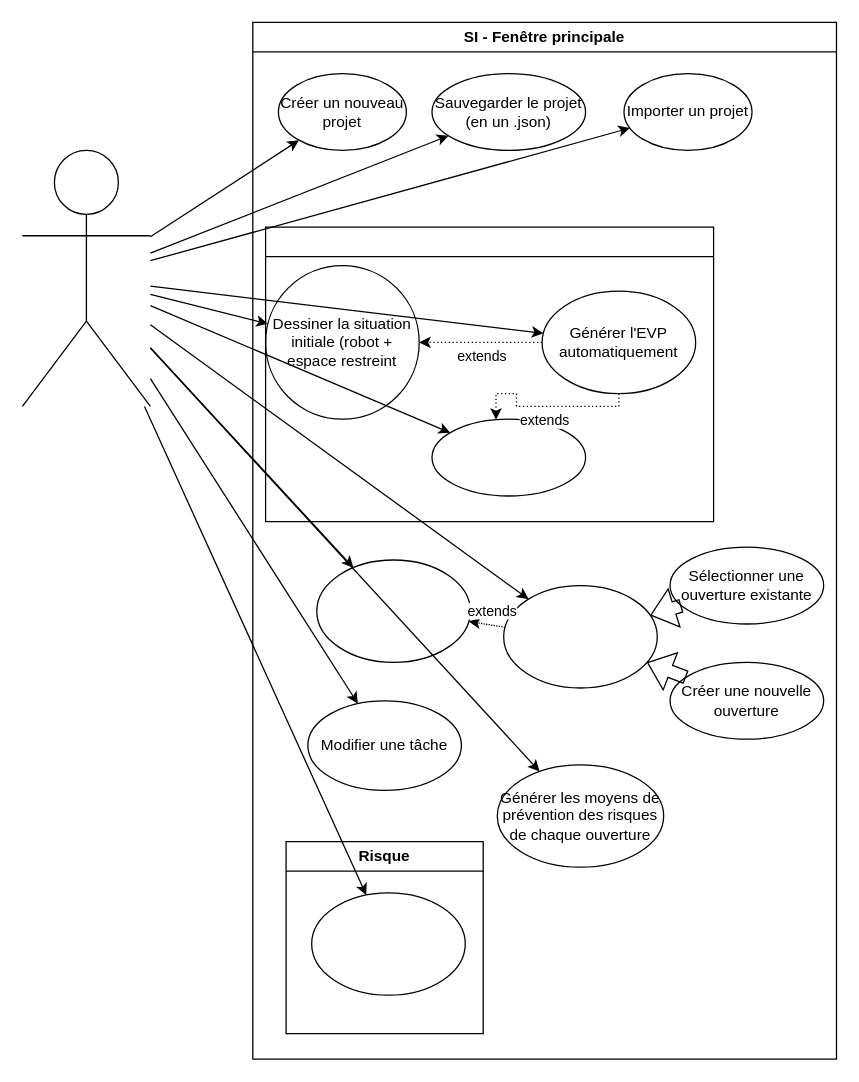
Some shapes in this 859 by 1082 pixel diagram are drawn without their labels. Here are the shapes that lost their labels. From the top down, the box of each, then its label:
(21, 149, 150, 406): Utilisateur
(264, 226, 714, 522): Conception
(431, 418, 586, 496): Modifier l'EVP généré
(316, 559, 470, 662): Créer une tâche
(502, 584, 657, 688): Assigner une ouverture à la tâche
(310, 892, 465, 995): Générer les risques potentiels de chaque ouverture
